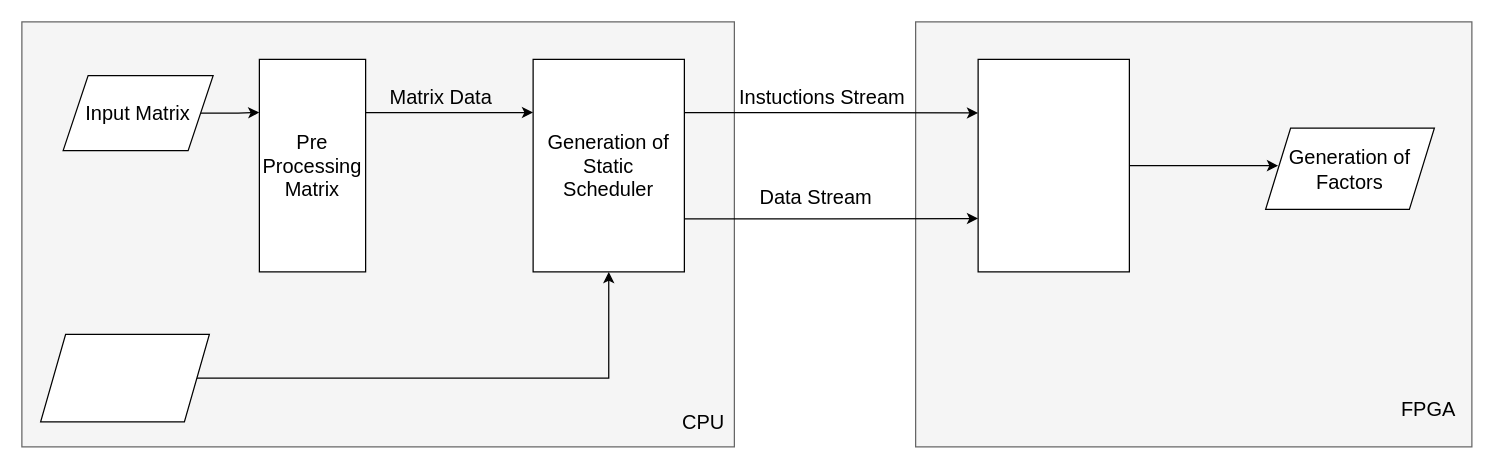
The diagram is 1494 pixels wide and 469 high, and some of its shapes have lost their labels. Here are the shapes that lost their labels. From the top down, the centre of each, then its label:
At (1053,165): "Processing Unit".
At (124,377): "Hardware Configuration".
